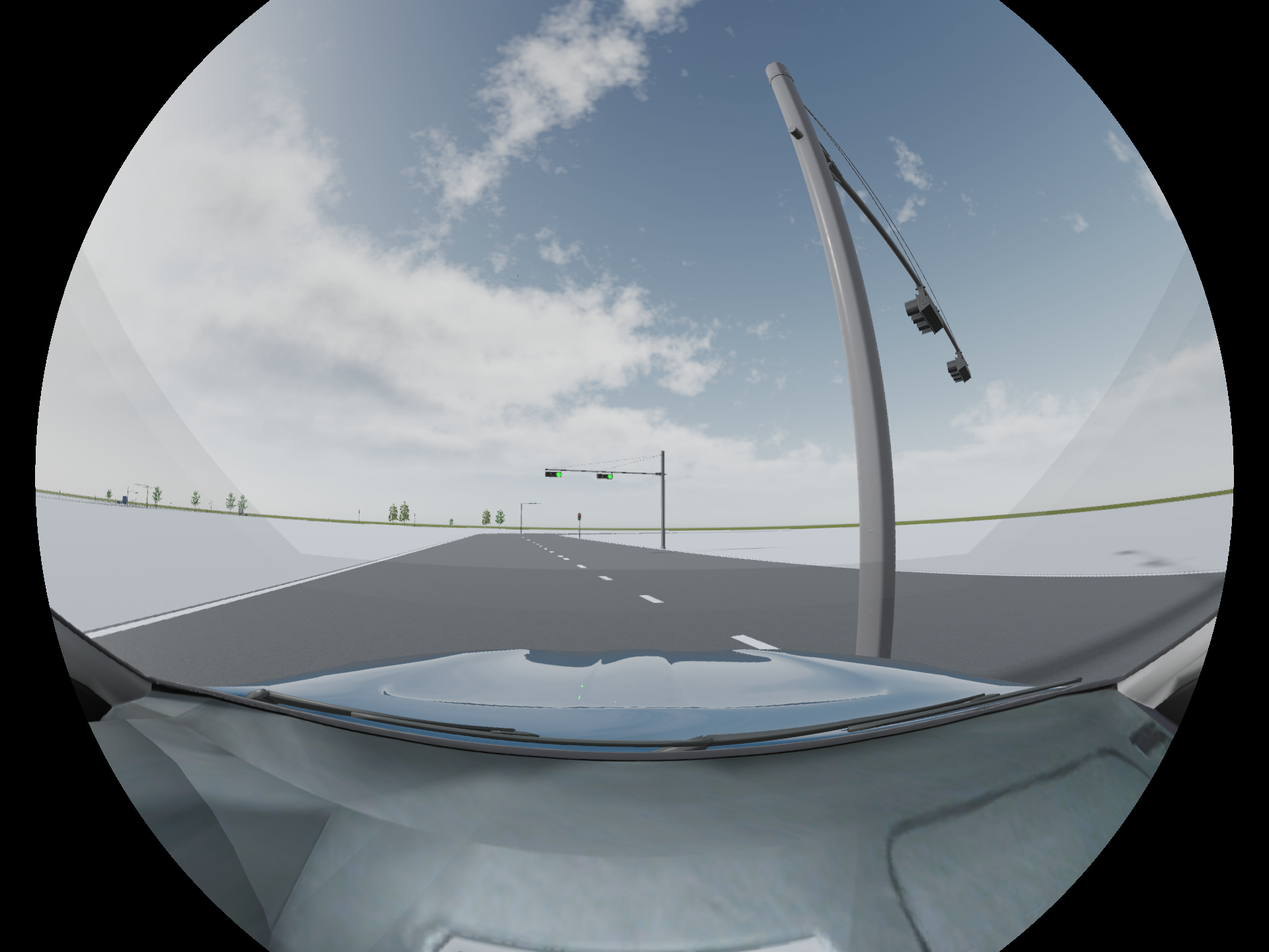Green Light: (595, 473, 614, 480), (545, 471, 563, 478)
